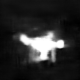plane: (15, 29, 70, 64)
